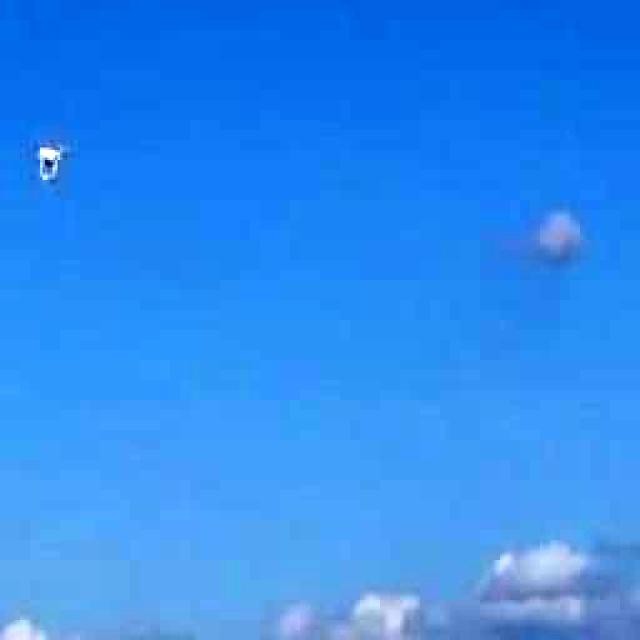bird: (15, 122, 88, 202)
